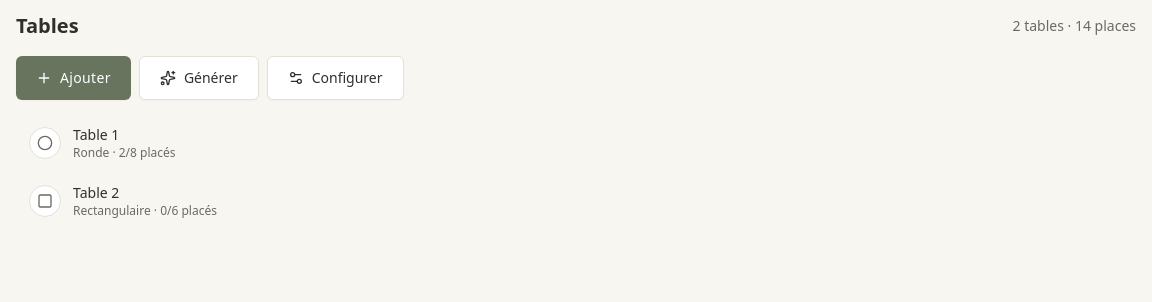
Test: TablesPanel › adds a table with a unique name and the current defaults
Click the button "Ajouter" at (73, 78), box [16,56,131,100]
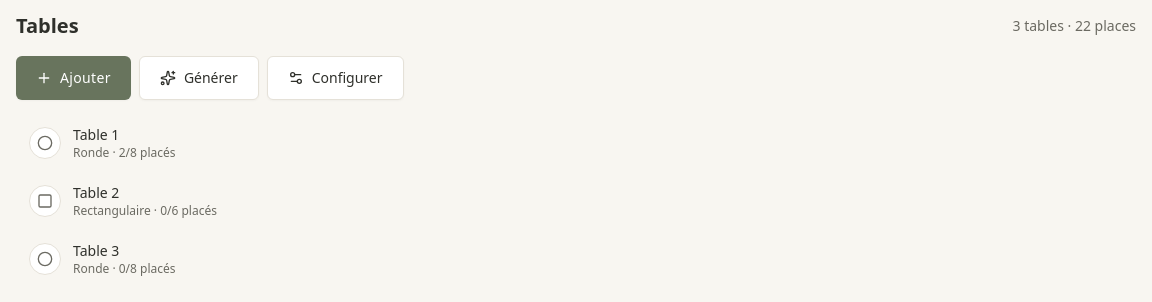
Now the button "Table 3 Ronde · 0/8 placés" is shown, box [17,233,1087,285]
Now the text with test id "table-count" reads "3 tables · 22 places", box [1012,16,1136,35]
